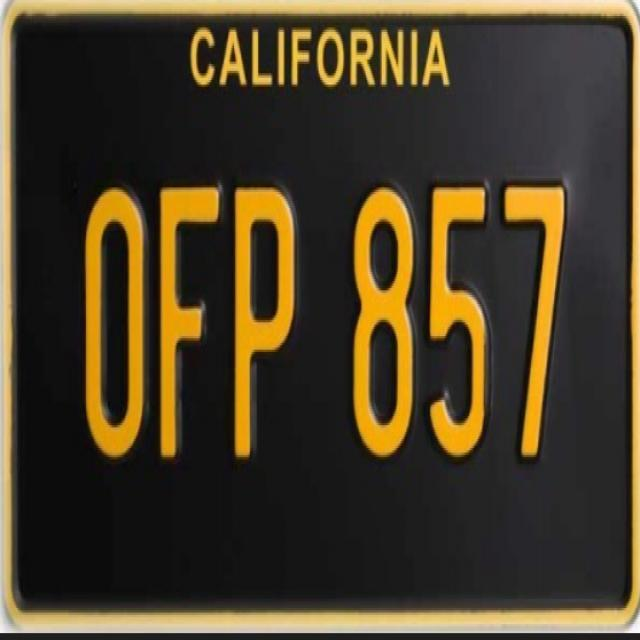0: (78, 170, 150, 476)
5: (428, 163, 494, 486)
7: (500, 173, 574, 486)
8: (346, 173, 418, 484)
F: (156, 170, 224, 471)
P: (231, 175, 308, 480)
